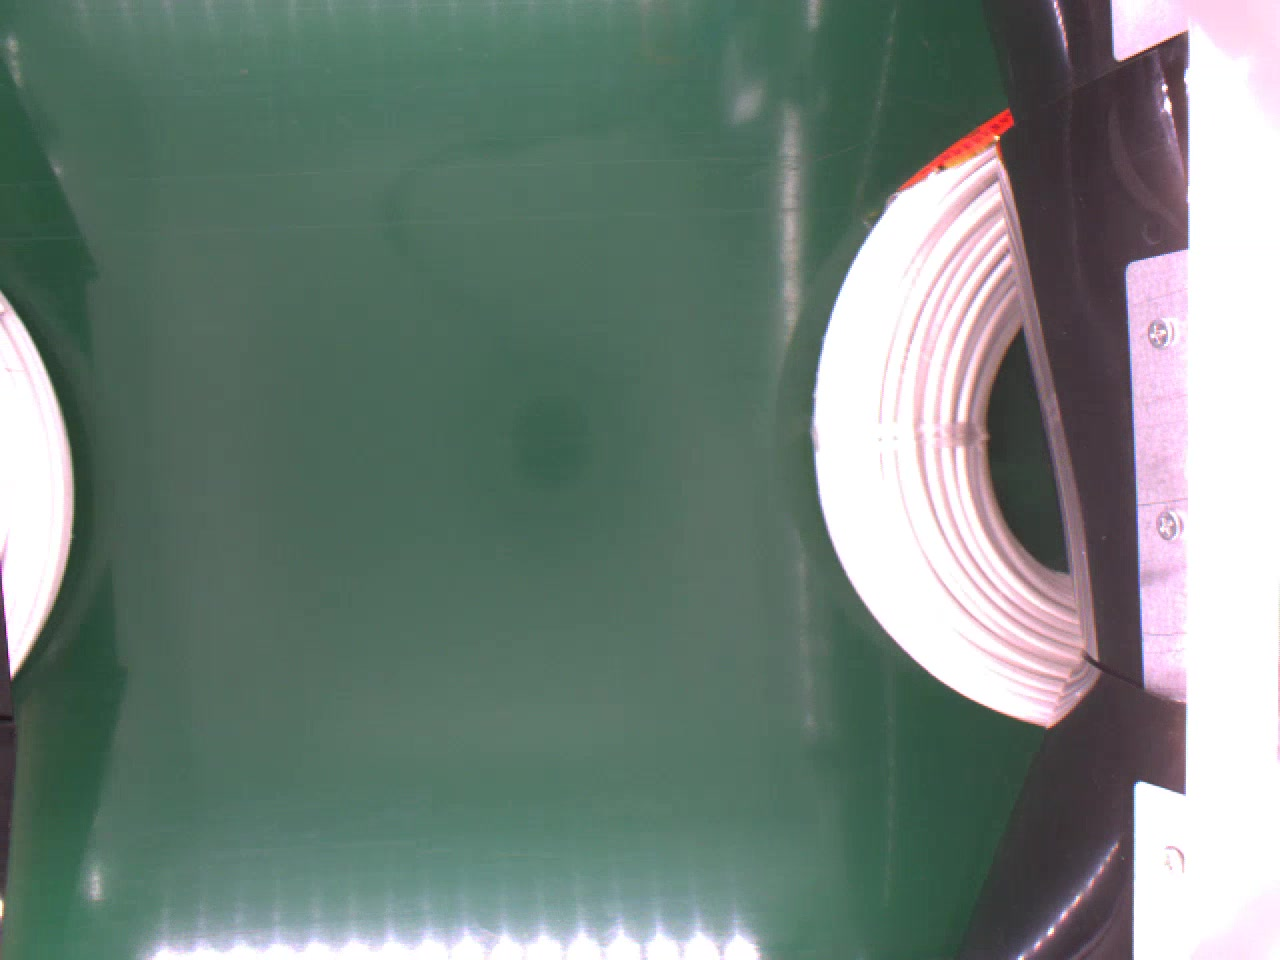white: (811, 102, 1080, 727)
